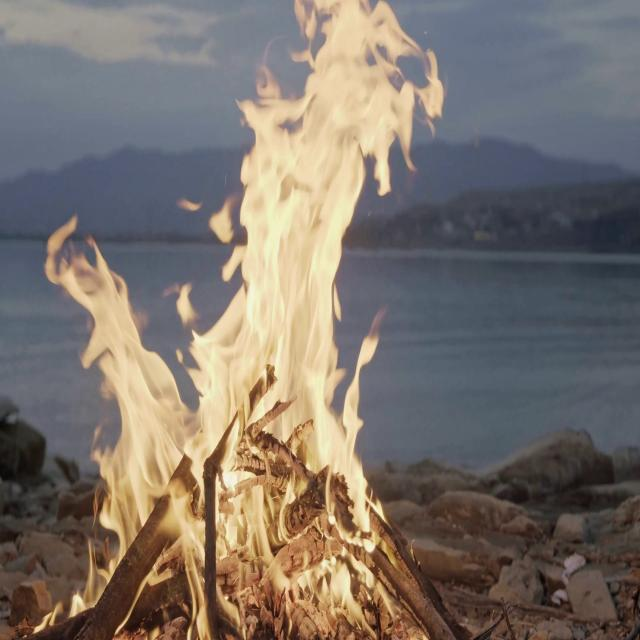Fire: (42, 0, 458, 640)
